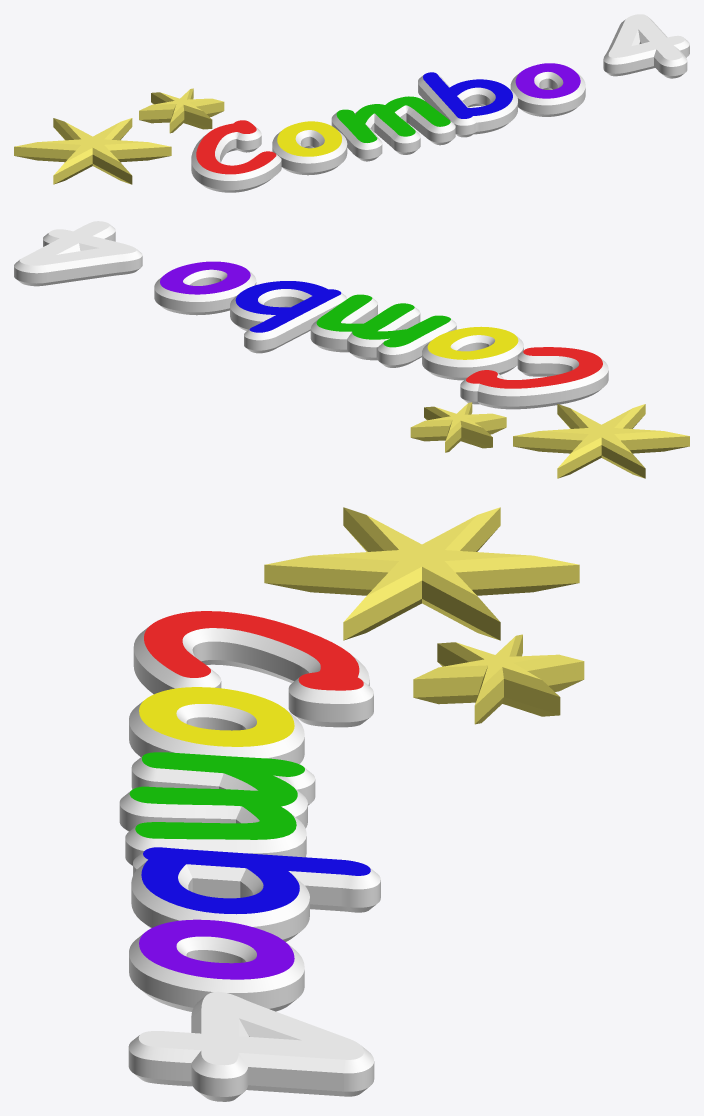
File: combo4.FBX
The picture shows the model from 3 angles, top to bottom: view 1: azimuth 30°, elevation 25°; view 2: azimuth 150°, elevation 25°; view 3: azimuth 270°, elevation 25°; orthographic projection. The views are drawn at different scales.
Parts seen in each view (by area): view 1: Text001, Star001, Text002, Star002; view 2: Text001, Star001, Text002, Star002; view 3: Text001, Star001, Text002, Star002.
Part boxes in pixels (x1,y1,x2,y2): Text001: (191,63,585,192); Star001: (14,118,171,184); Text002: (603,14,689,78); Star002: (139,88,224,133); Text001: (154,261,608,409); Star001: (513,404,689,478); Text002: (14,221,142,286); Star002: (410,402,506,452); Text001: (119,611,380,1011); Star001: (264,507,579,640); Text002: (128,991,374,1101); Star002: (413,634,584,724).
Bounding box in the file's own units: 0.2756 × 0.0918 × 0.012.
